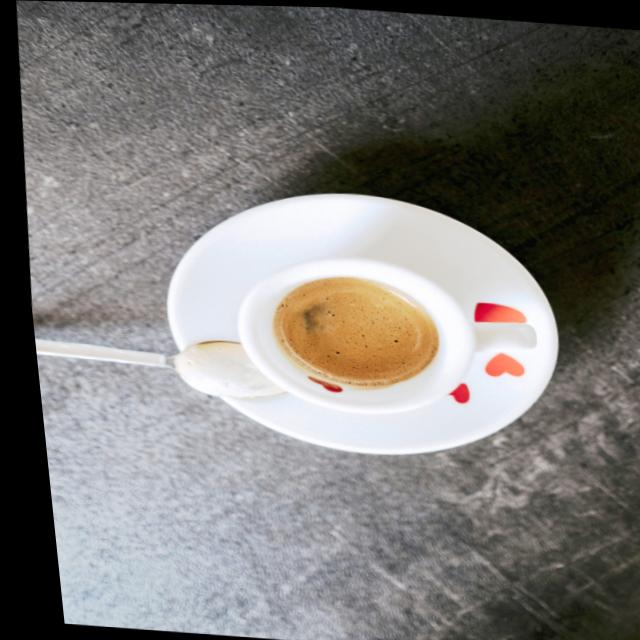drink: (228, 256, 479, 412)
